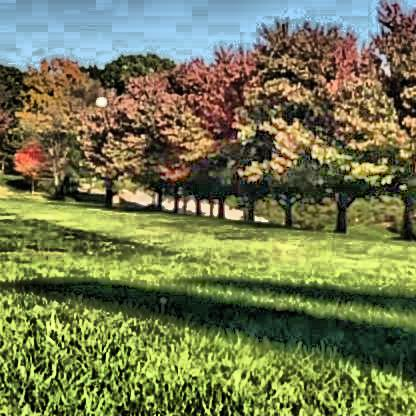golfball: (93, 94, 105, 104)
